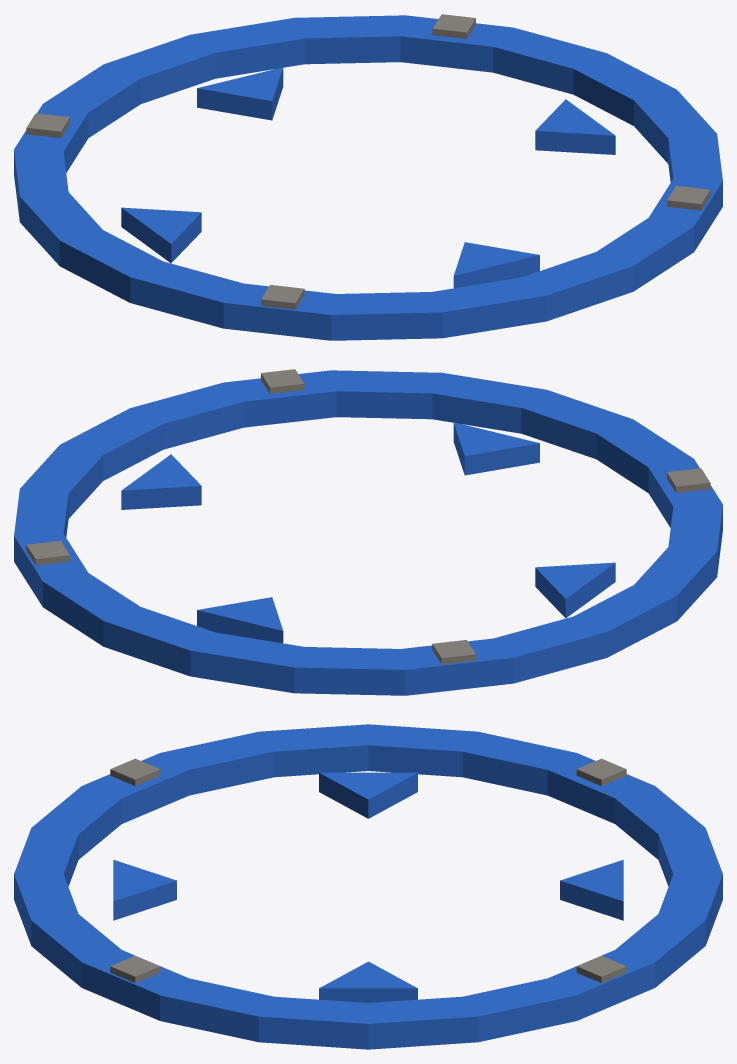
Rendered from unit_marker.obj.
3 renders of one model, top to bottom at view 1: azimuth 30°, elevation 25°; view 2: azimuth 150°, elevation 25°; view 3: azimuth 270°, elevation 25°, orthographic.
Parts seen in each view (by area): view 1: unit_marker; view 2: unit_marker; view 3: unit_marker.
Boxes of the visible parts, bbox=[...] form: unit_marker: bbox=[14, 14, 722, 340]; unit_marker: bbox=[14, 369, 722, 695]; unit_marker: bbox=[14, 724, 722, 1049].
Bounding box in the file's own units: 1 × 0.05 × 1.
